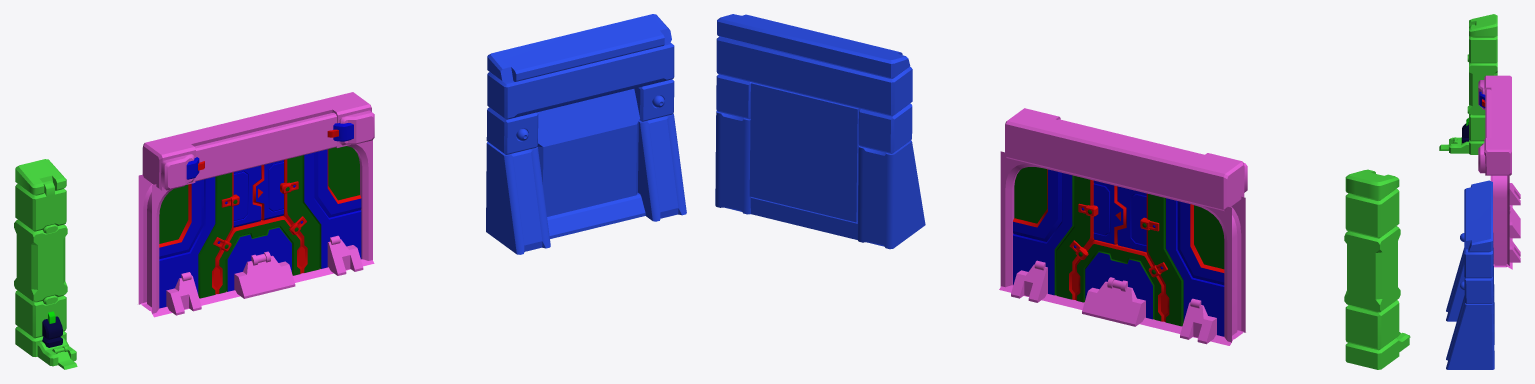
The model's file is SM_WallsAndDoorScifi04 (VertexPaint).FBX.
3 views of the same model, side by side, from view 1: azimuth 30°, elevation 25°; view 2: azimuth 150°, elevation 25°; view 3: azimuth 270°, elevation 25° (orthographic). The views are drawn at different scales.
Visible parts, largest first — view 1: Box486, Door_UV:Door_01polySurface040, Door_UV:Door_01polySurface043, Box485, Box483, Object214, Door_UV:DoorWay_TopBox445, Door_UV:Box434DoorWay_Top002, Door_UV:Object205, Object213, Door_UV:Door_01polySurface041, Box476 (+15 smaller); view 2: Box486, Door_UV:Box434DoorWay_Top002, Door_UV:Door_01polySurface040, Door_UV:Door_01polySurface043, Box485, Object214, Box483, Door_UV:Object205, Box476, Door_UV:Door_01polySurface041, Object213, Box488 (+12 smaller); view 3: Object213, Door_UV:Box434DoorWay_Top002, Box483, Door_UV:Object205, Box476, Box485, Box475, Box487, Object214, Box482, Box477, Door_UV:DoorWay_TopBox445 (+11 smaller).
Part boxes in pixels (x1,y1,x2,y2): Box486: (536,89,639,216); Door_UV:Door_01polySurface040: (283,146,361,272); Door_UV:Door_01polySurface043: (159,172,233,308); Box485: (487,42,674,119); Box483: (487,14,671,82); Object214: (486,142,550,254); Door_UV:DoorWay_TopBox445: (194,112,336,181); Door_UV:Box434DoorWay_Top002: (142,92,371,190); Door_UV:Object205: (138,140,372,313); Object213: (638,114,686,221); Door_UV:Door_01polySurface041: (216,216,301,293); Box476: (14,219,67,302); Box486: (749,82,860,222); Door_UV:Box434DoorWay_Top002: (1005,108,1244,211); Door_UV:Door_01polySurface040: (1013,167,1094,299); Door_UV:Door_01polySurface043: (1146,193,1224,336); Box485: (716,36,912,116); Object214: (857,140,925,249); Box483: (717,14,910,78); Door_UV:Object205: (1000,151,1245,342); Box476: (1344,226,1400,312); Door_UV:Door_01polySurface041: (1075,240,1164,321); Object213: (715,111,750,214); Box488: (858,103,912,153); Object213: (1446,295,1494,369); Door_UV:Box434DoorWay_Top002: (1484,75,1511,175); Box483: (1464,180,1492,252); Door_UV:Object205: (1490,175,1509,265); Box476: (1469,62,1497,115); Box485: (1464,248,1492,278); Box475: (1469,24,1497,63); Box487: (1464,277,1493,303); Object214: (1446,248,1494,321); Box482: (1469,14,1497,37); Box477: (1469,114,1485,141); Door_UV:DoorWay_TopBox445: (1485,89,1491,137).
Size of the model in its own units: 7511 by 1135 by 2020.
